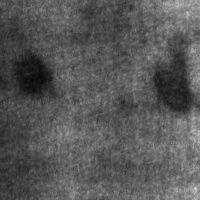patches: (151, 46, 193, 114), (10, 50, 53, 95)
